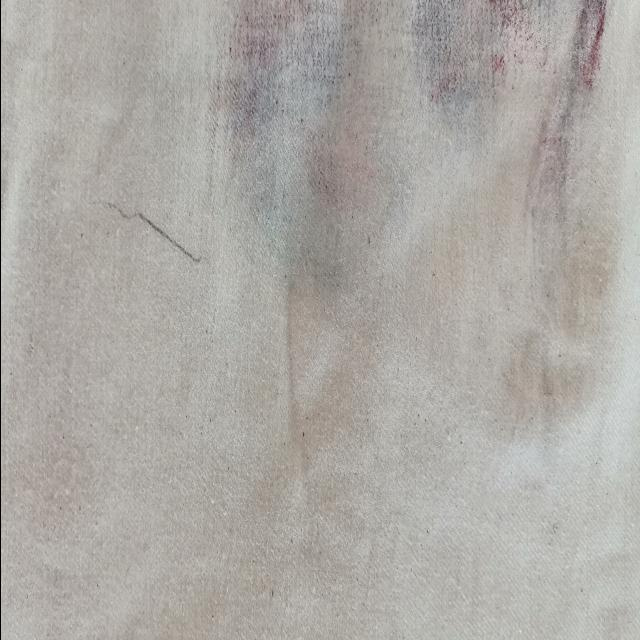taaaches: (221, 0, 634, 428), (97, 154, 211, 308)
